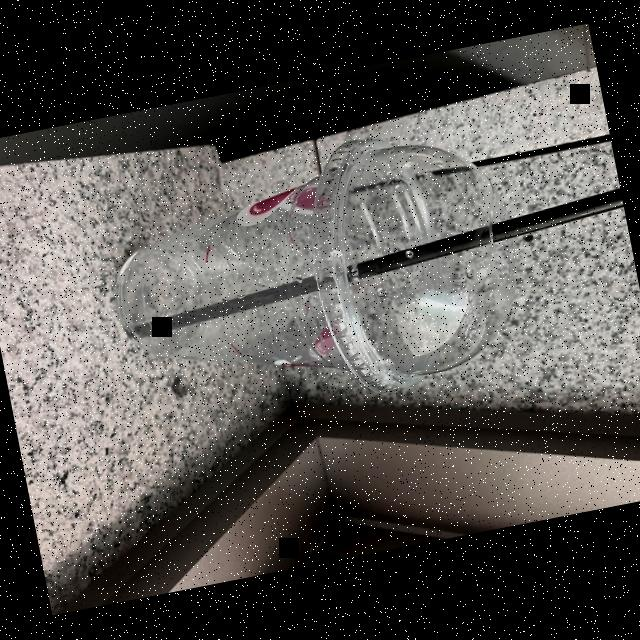plastic_cup: (82, 119, 540, 442)
plastic_cup_lid: (287, 114, 540, 400)
straw: (122, 186, 625, 341)
